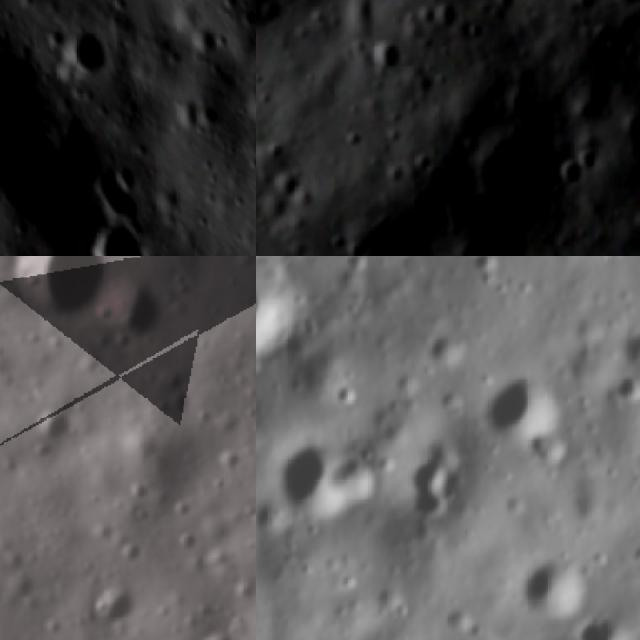crater: (466, 120, 569, 230), (268, 438, 377, 527), (477, 366, 566, 458), (4, 256, 108, 328), (510, 551, 602, 622), (406, 436, 474, 522), (256, 256, 302, 371), (98, 284, 167, 332), (83, 168, 144, 216), (25, 404, 76, 459), (256, 160, 308, 208), (88, 579, 131, 634), (427, 321, 473, 369), (574, 599, 626, 640), (86, 224, 143, 256), (554, 156, 590, 200), (75, 29, 104, 78), (605, 372, 640, 412), (368, 34, 402, 74), (325, 229, 374, 256), (256, 0, 287, 41), (430, 0, 461, 39), (577, 141, 610, 175), (471, 256, 503, 279), (194, 631, 247, 640)
